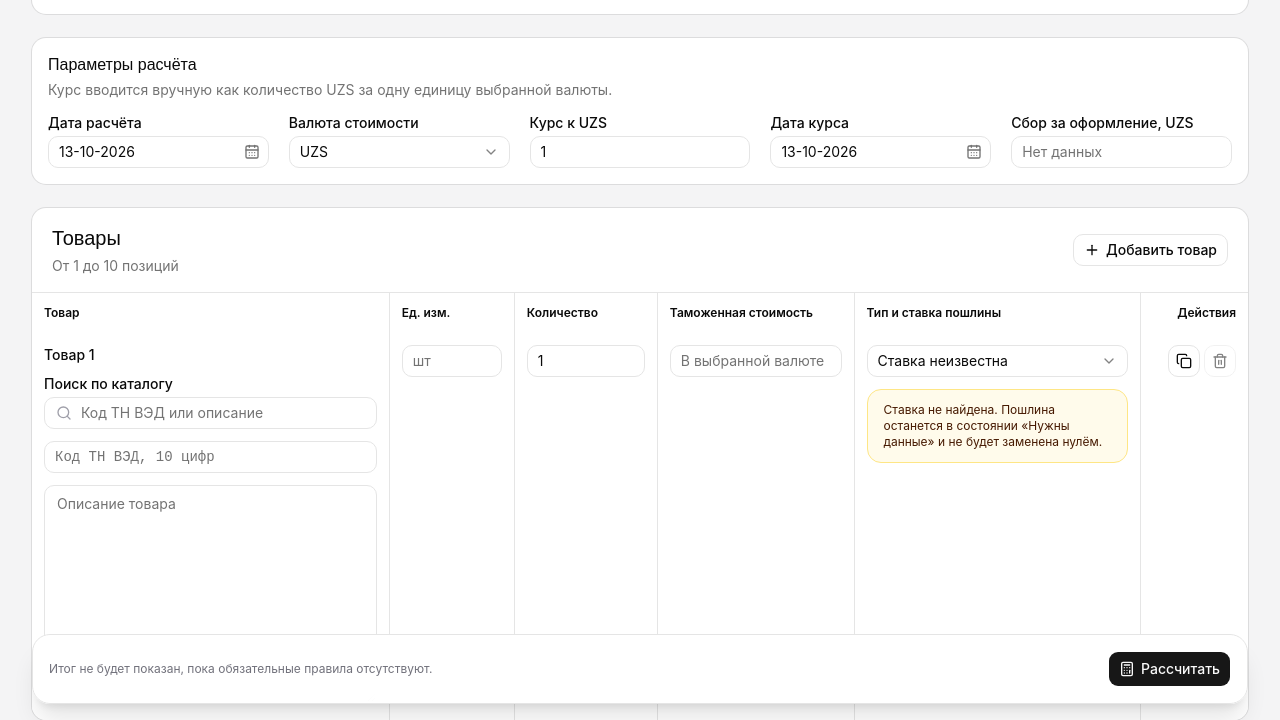
Test: calculator page › does not offer an unconfirmed MAX or SUM formula
(page scrolled)
Step 1. Click the dropdown named "Тип ставки пошлины" → (997, 361), box [867,345,1128,377]
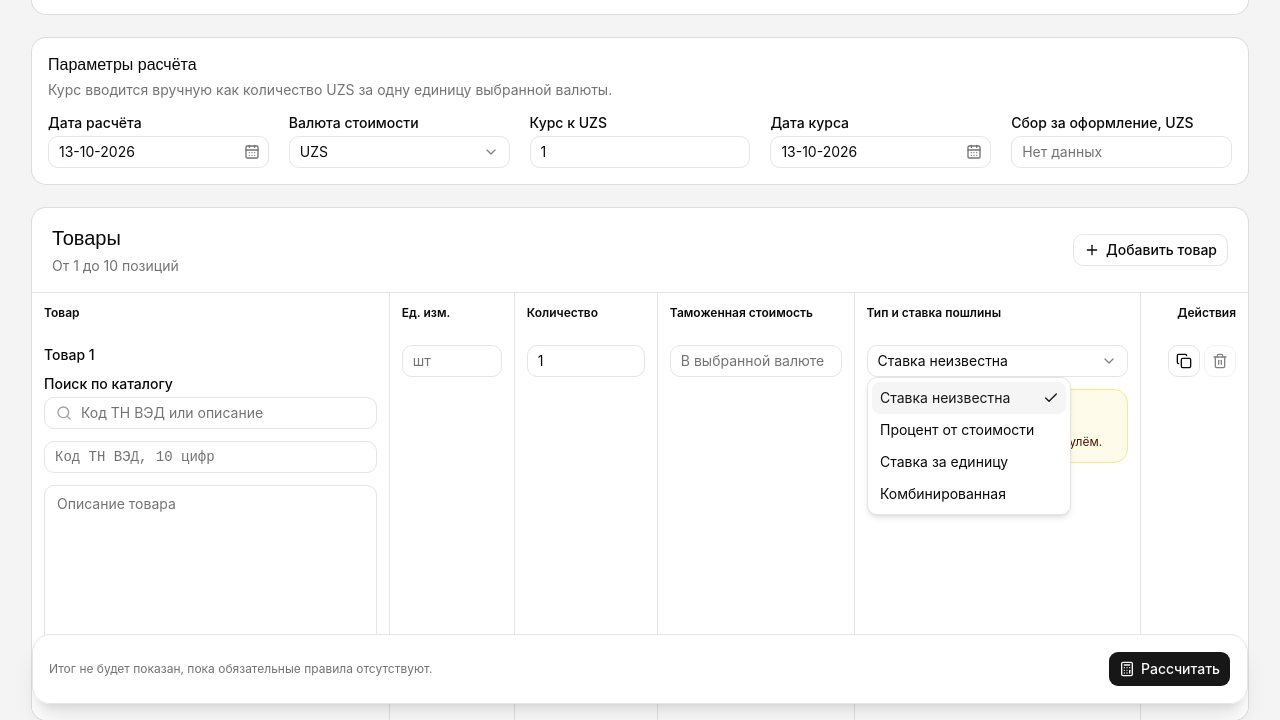
Step 2. Click the option "Комбинированная" → (943, 494), box [880,485,1006,502]
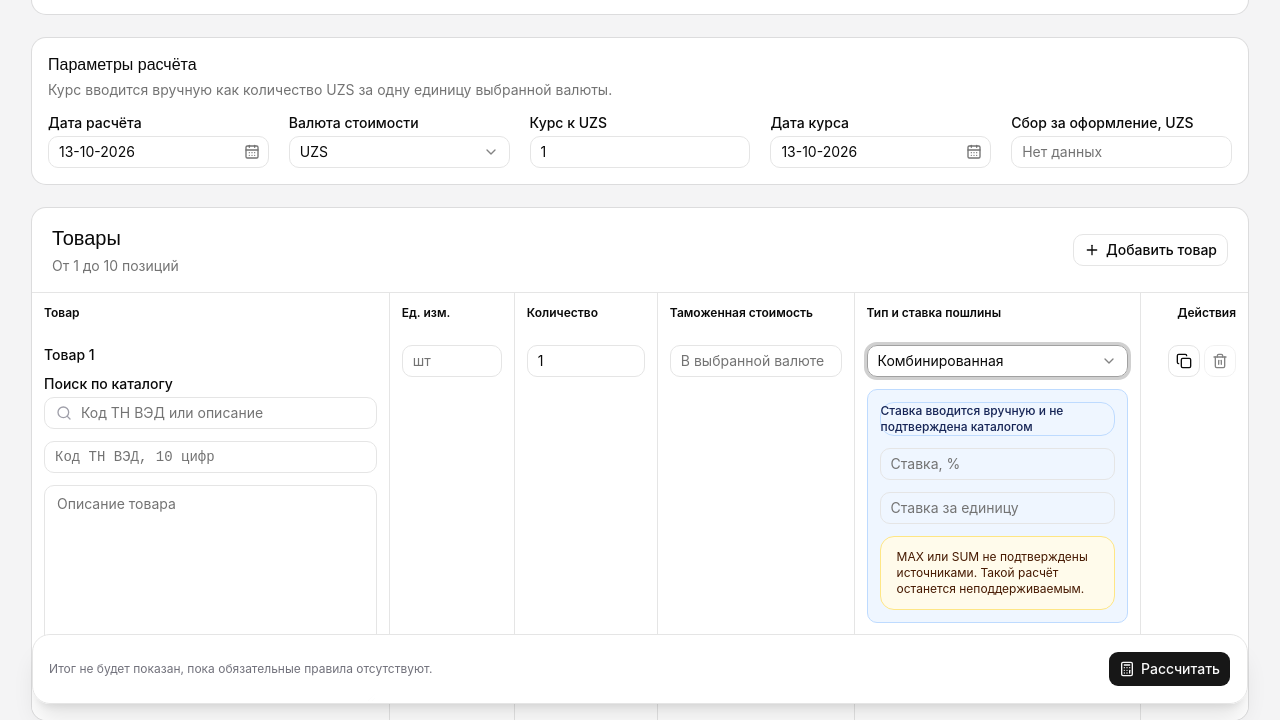
Result: the text "MAX или SUM не подтверждены источниками" is shown at [897,549,1088,596]
